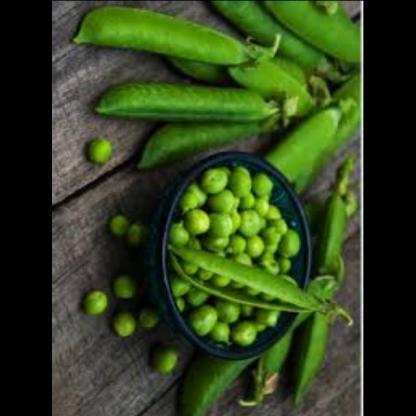peas: (103, 0, 348, 154), (164, 166, 300, 328), (208, 335, 338, 390), (104, 200, 152, 252), (134, 330, 182, 376), (82, 286, 113, 322), (109, 313, 144, 344), (134, 295, 162, 332), (105, 272, 141, 300), (86, 134, 110, 167)
